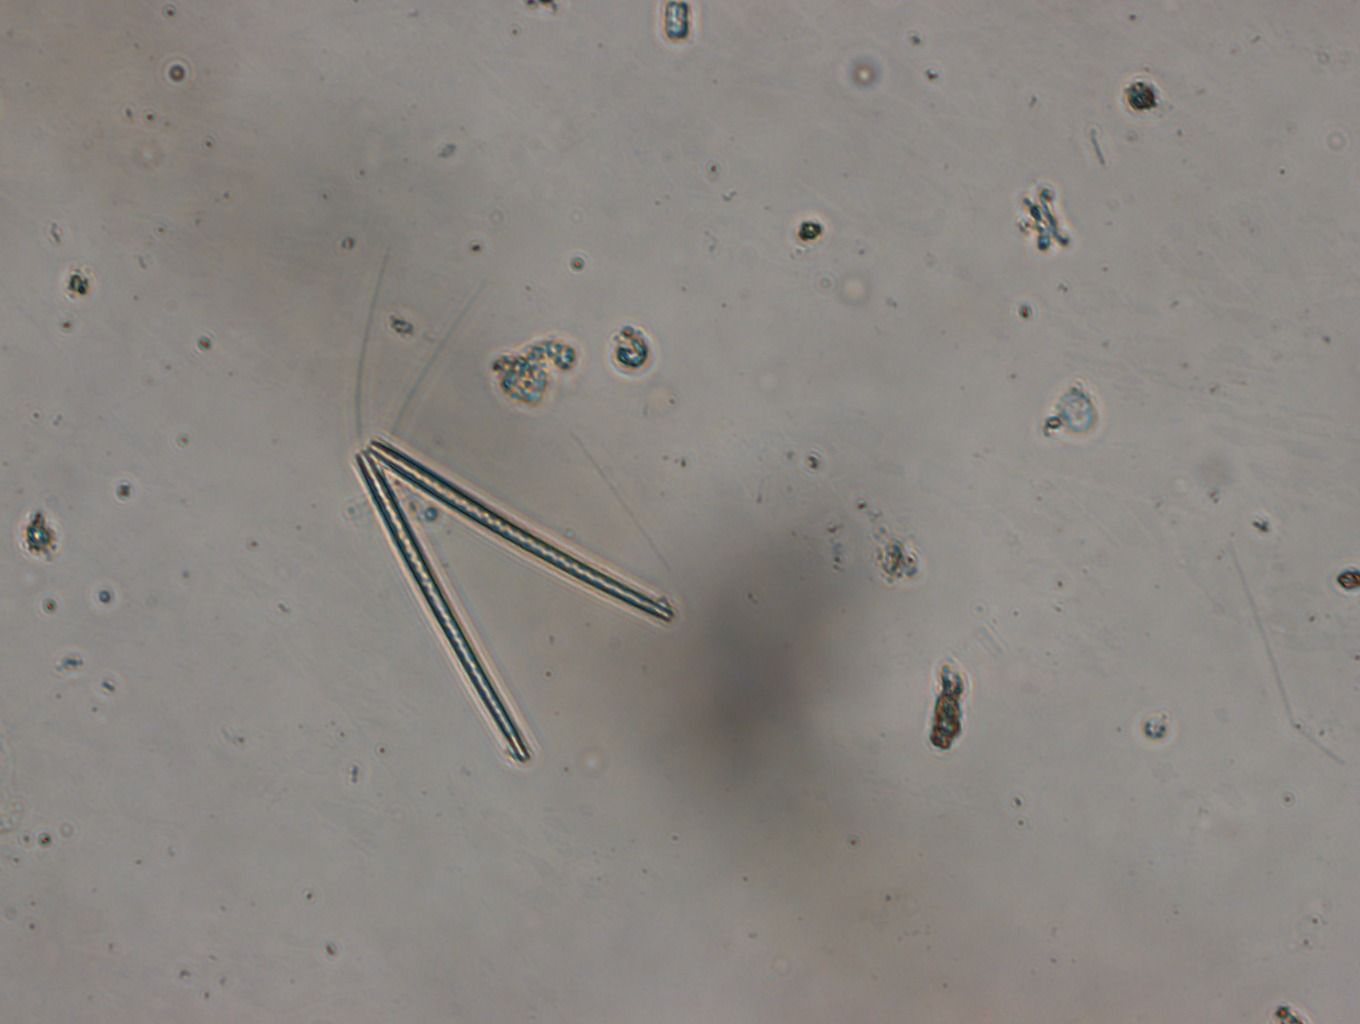thalassionema nitzschioides: (341, 426, 683, 767)
